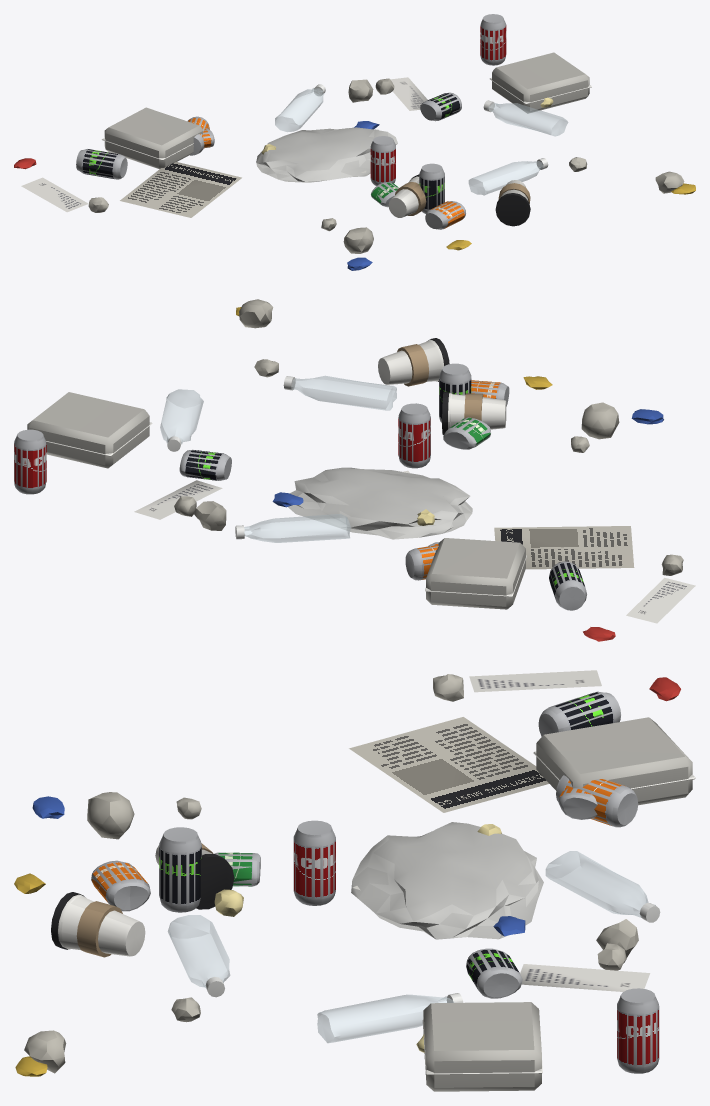
The model's file is litter_spread_b.glb.
3 renders of one model, top to bottom at view 1: azimuth 30°, elevation 25°; view 2: azimuth 150°, elevation 25°; view 3: azimuth 270°, elevation 25°, orthographic. The views are drawn at different scales.
Parts seen in each view (by area): view 1: body, panels, glass; view 2: body, panels, glass; view 3: body, panels, glass.
Part boxes in pixels (left/top/right/bottom): body: left=14, top=14, right=695, bottom=270; panels: left=21, top=24, right=506, bottom=229; glass: left=275, top=88, right=568, bottom=195; body: left=14, top=299, right=683, bottom=641; panels: left=14, top=378, right=695, bottom=623; glass: left=160, top=375, right=396, bottom=542; body: left=14, top=674, right=695, bottom=1091; panels: left=91, top=670, right=658, bottom=1066; glass: left=168, top=851, right=655, bottom=1043.
Size of the model in its own units: 1.55 by 0.1299 by 1.06.
14 materials, 1 textured.
